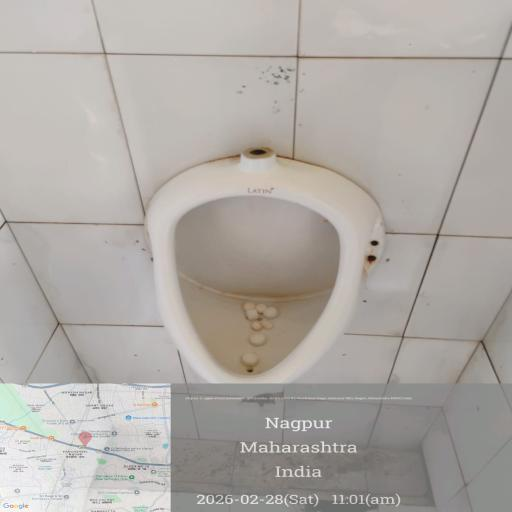clean_urinal: (143, 162, 379, 418)
partial_dirty_floor: (52, 376, 479, 512)
